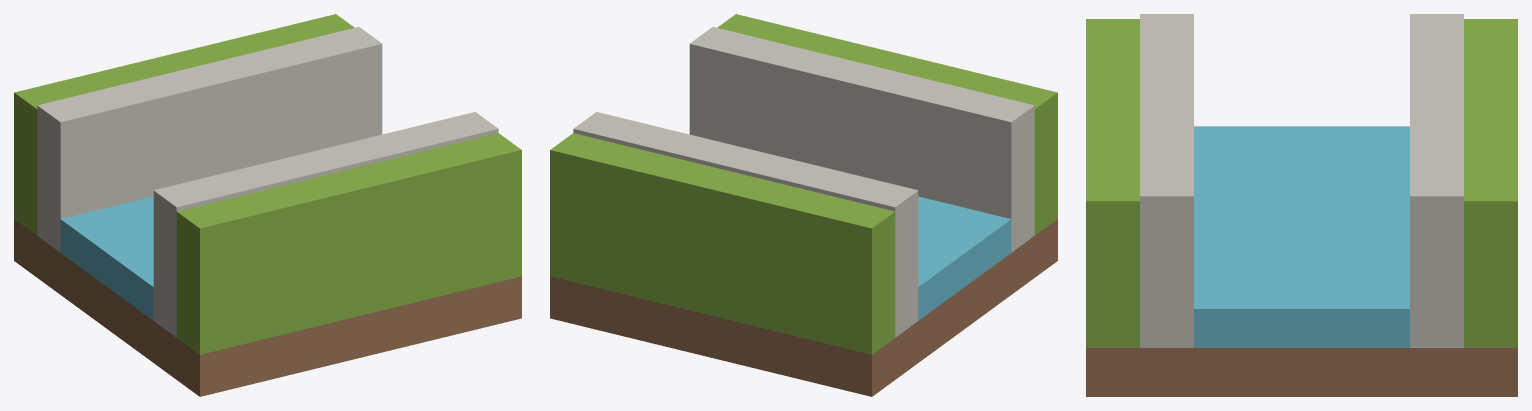
The model's file is canal-high-water-low.obj.
3 views of the same model, side by side, from view 1: azimuth 30°, elevation 25°; view 2: azimuth 150°, elevation 25°; view 3: azimuth 270°, elevation 25° (orthographic). The views are drawn at different scales.
Visible parts, largest first — view 1: canal-high-water-low_Cube.191; view 2: canal-high-water-low_Cube.191; view 3: canal-high-water-low_Cube.191.
Boxes of the visible parts, box(x1,y1,x2,y2) form: canal-high-water-low_Cube.191: box(14, 14, 521, 396); canal-high-water-low_Cube.191: box(550, 14, 1057, 396); canal-high-water-low_Cube.191: box(1086, 14, 1517, 396).
Size of the model in its own units: 8 by 4.1 by 8.
1 material, 1 textured.
